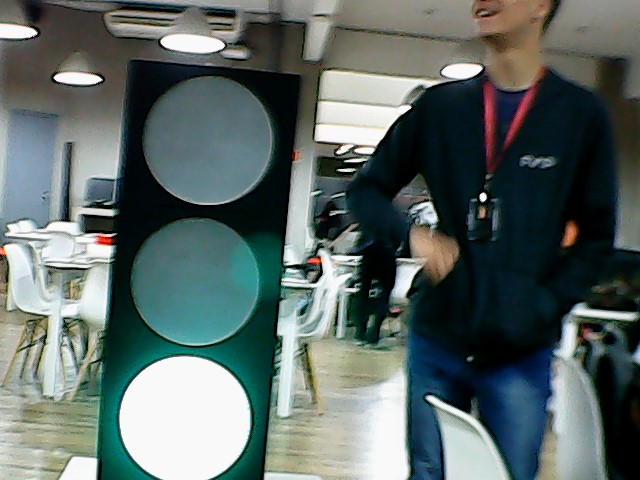verde: (82, 45, 304, 479)
